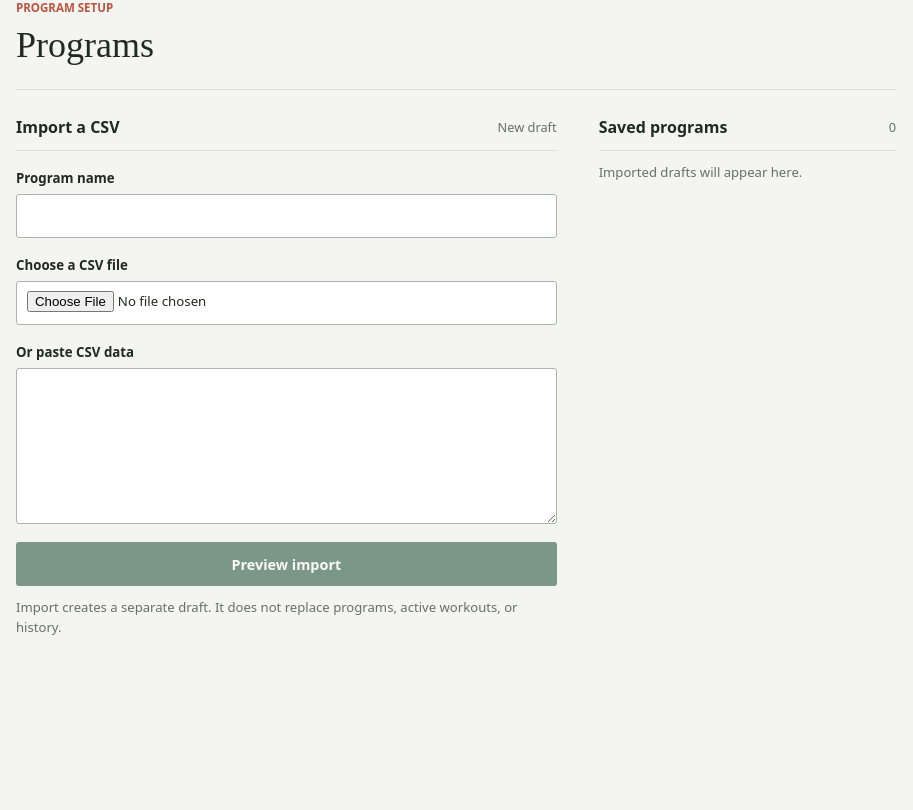
Test: blocks unsafe preview structure and recovers after editing and re-previewing
The image size is (913, 810).
Expected: the text "Imported drafts will appear here." is shown, x1=599 y1=163 x2=802 y2=181
In the text box labelled "Or paste CSV data": (286,446) x1=16 y1=368 x2=557 y2=524, type "unsafe csv"
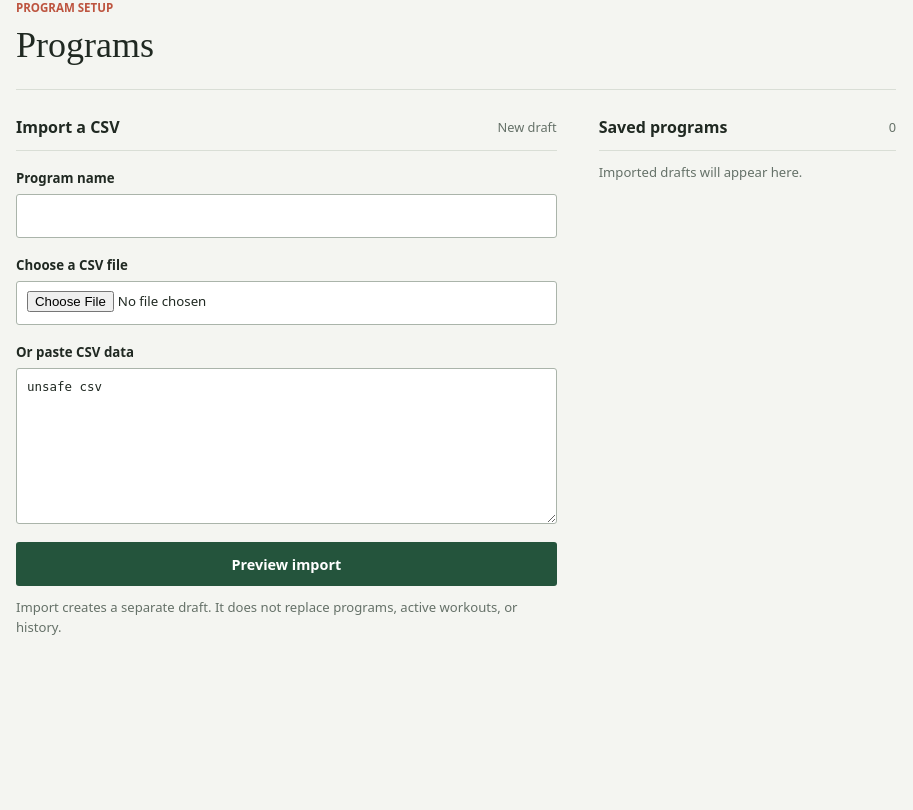
Click the button "Preview import": (286,564) x1=16 y1=542 x2=557 y2=586
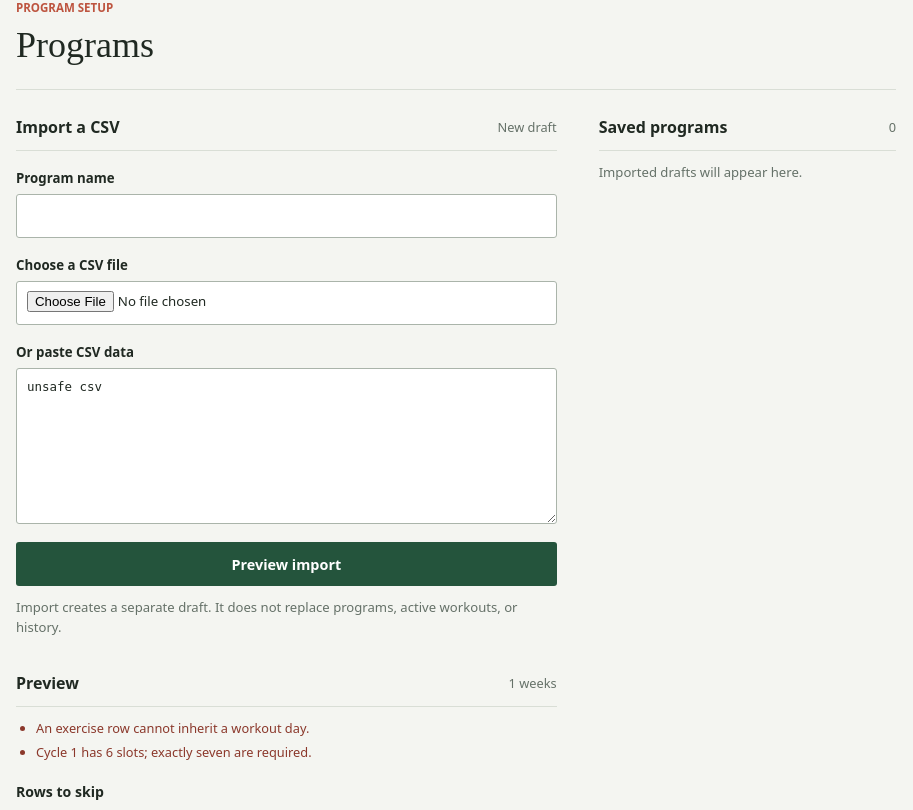
Now the message shows "Cycle 1 has 6 slots; exactly seven are required.", box x1=36 y1=743 x2=312 y2=761
Replace the text in the text box labelled "Or paste CSV data" with "corrected csv": (286,446) x1=16 y1=368 x2=557 y2=524
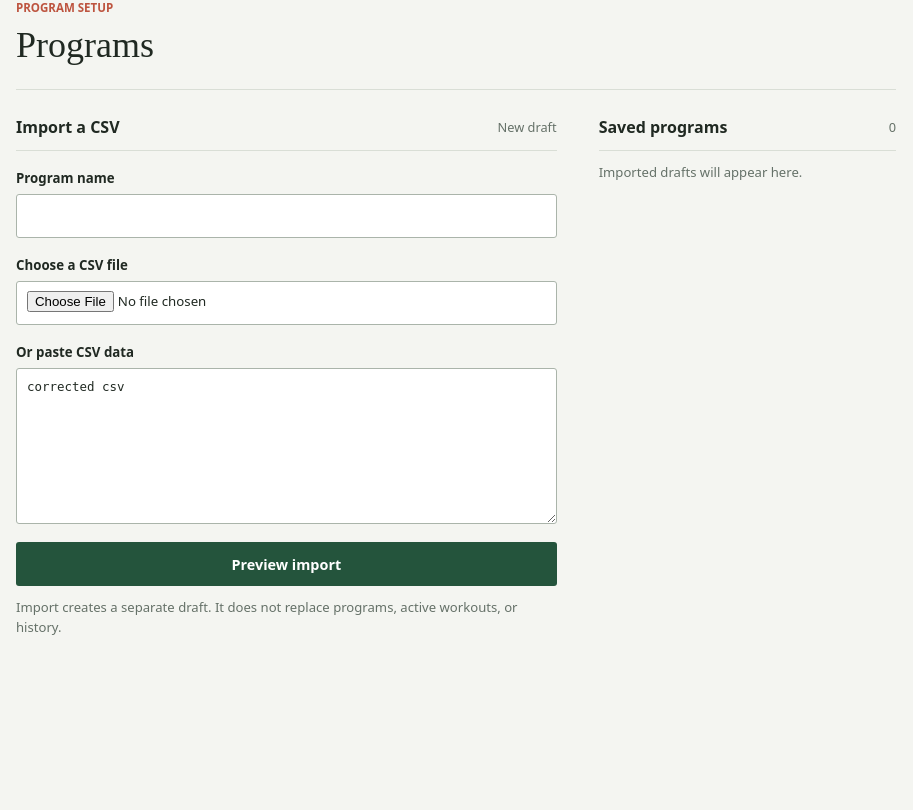
Click the button "Preview import": (286,564) x1=16 y1=542 x2=557 y2=586
(page scrolled)
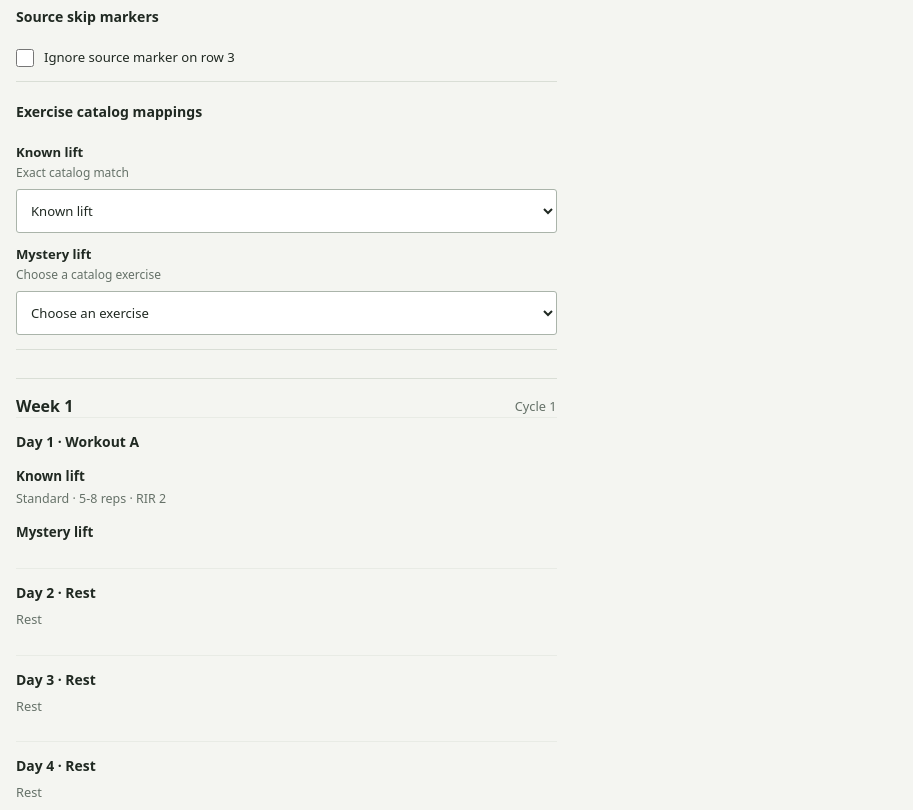
Expected: the list item "Cycle 1 has 6 slots; exactly seven are required." is not shown
Now the heading "Week 1" is shown, box x1=16 y1=395 x2=73 y2=417
